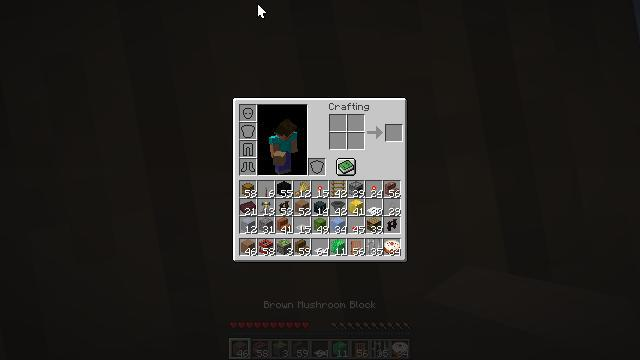cursor: (257, 3, 267, 19)
